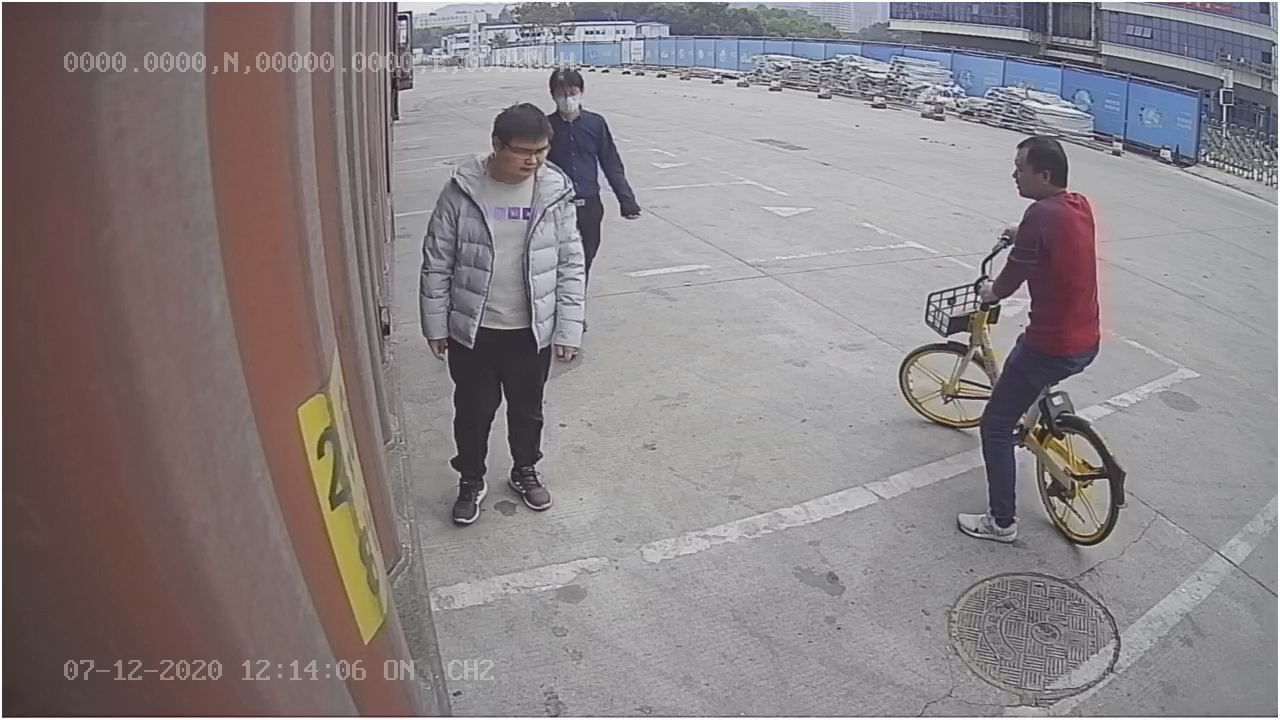person: (421, 101, 585, 523)
